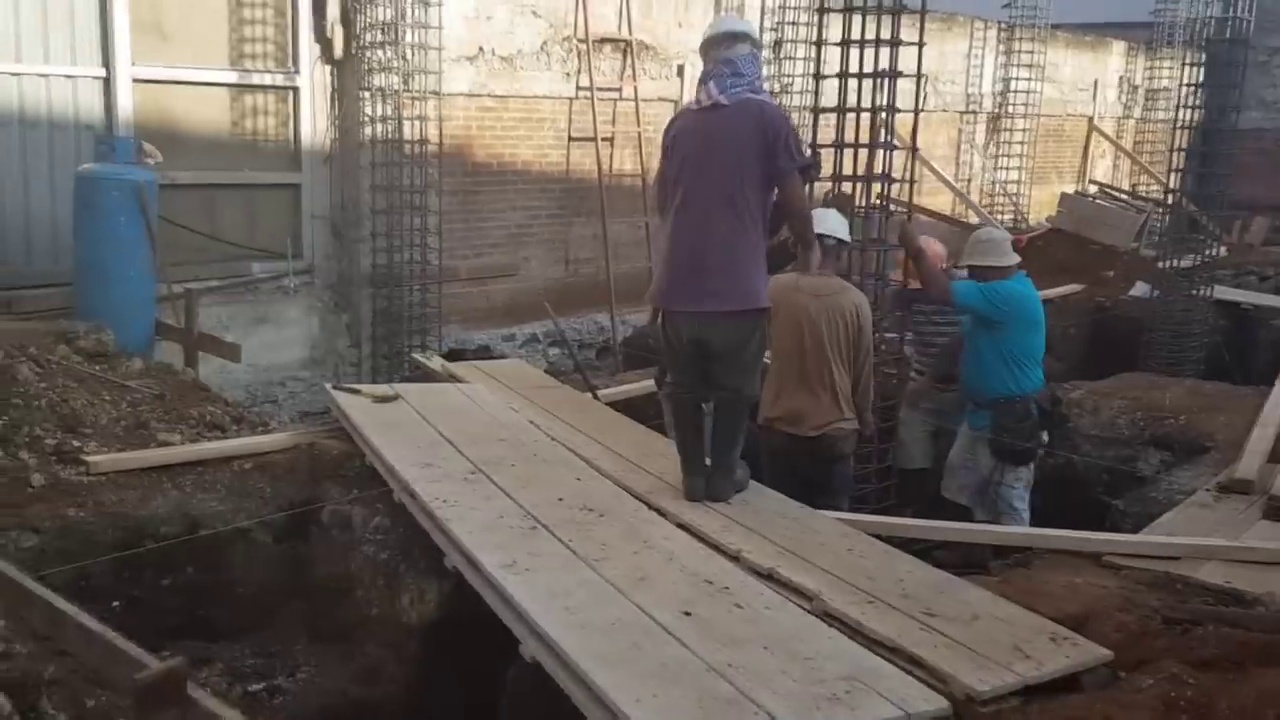helmet: (887, 235, 951, 291), (698, 11, 764, 57), (795, 205, 855, 245)
helmet-off: (963, 225, 1025, 288)
helmet-on: (697, 10, 769, 94), (888, 233, 951, 311), (796, 205, 856, 281)
person: (637, 6, 816, 506), (940, 200, 1056, 562), (770, 171, 879, 540), (879, 231, 970, 513)
